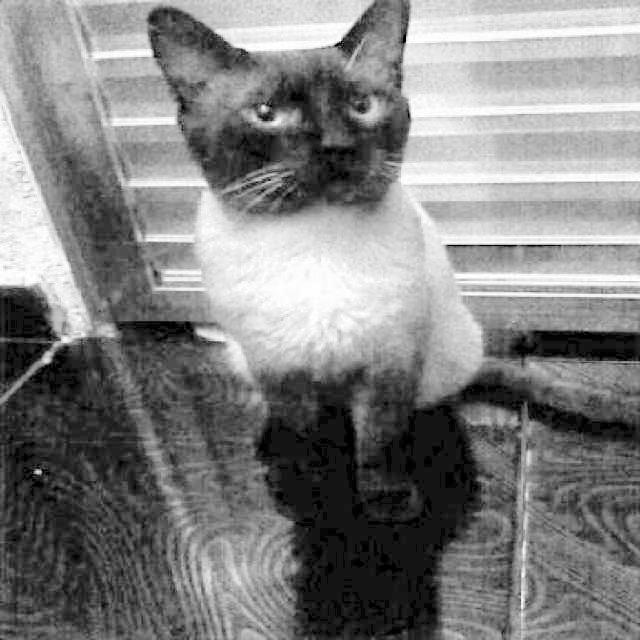Cat: (134, 0, 640, 538)
